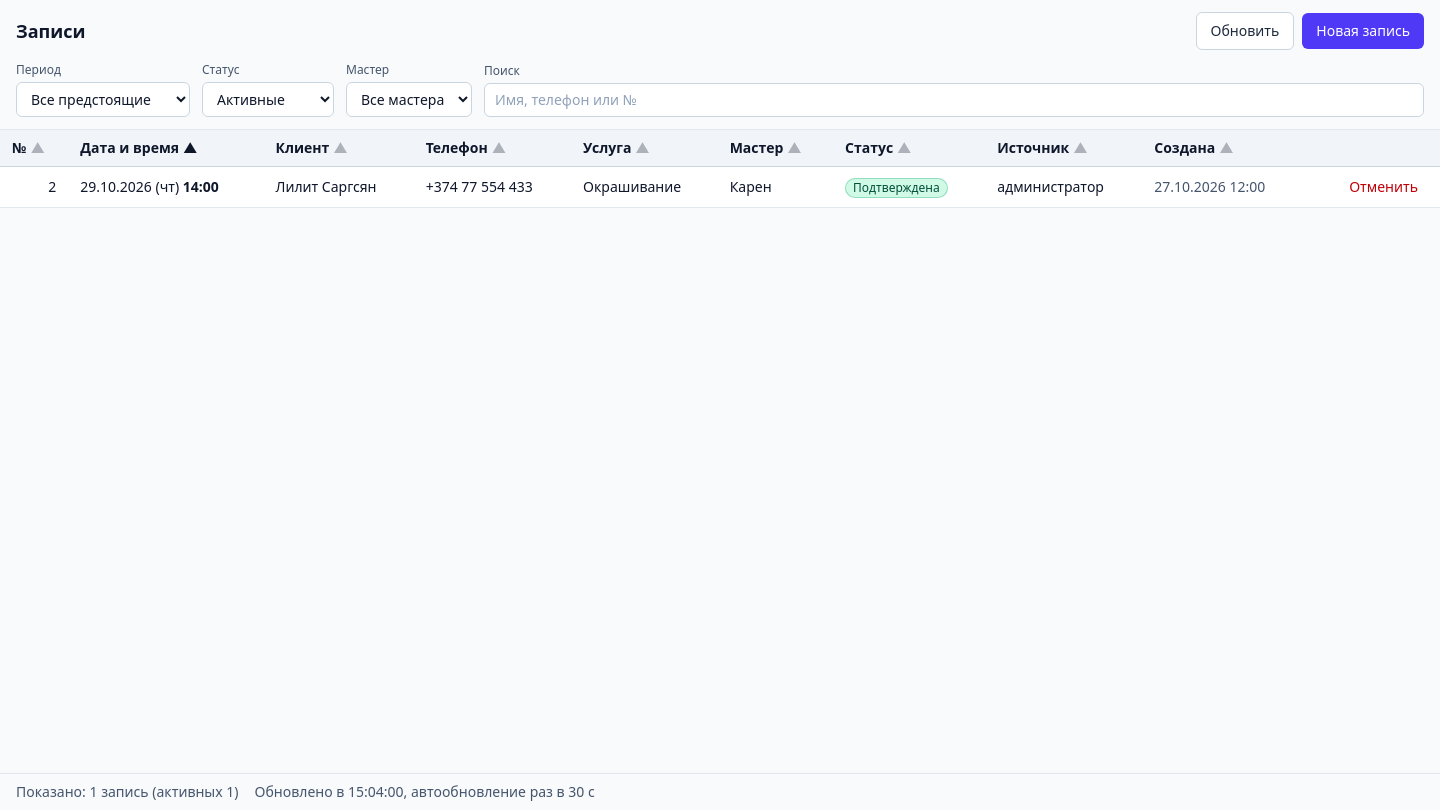
Test case: BookingsTab › отмена записи с подтверждением и тостом
Click the button with aria-label "Отменить запись №2" at (1384, 187), box [1339,173,1428,201]
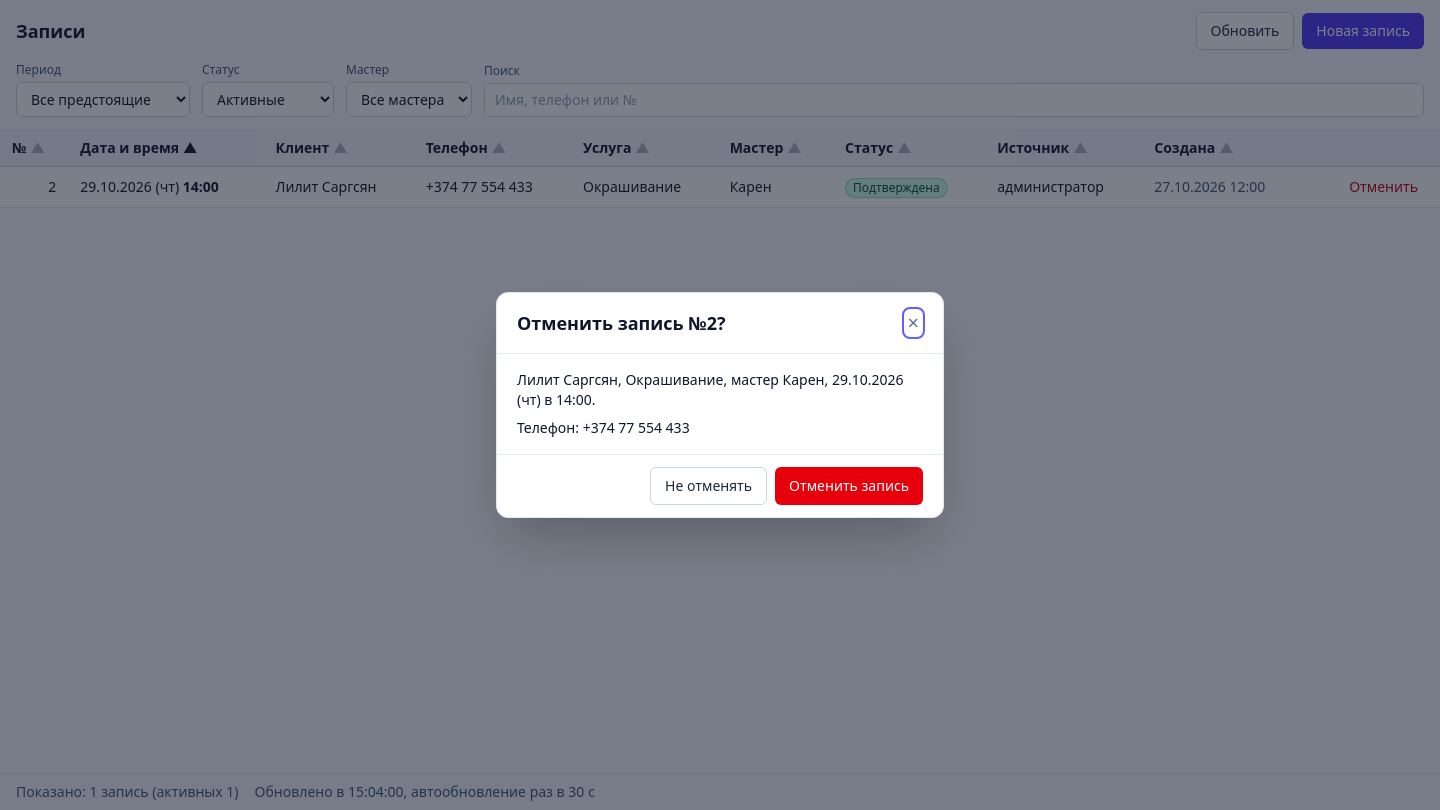
Result: the text "Лилит Саргсян" is shown at [517,370,904,409]
Click the button "Отменить запись" at (849, 486), box [775,467,923,505]
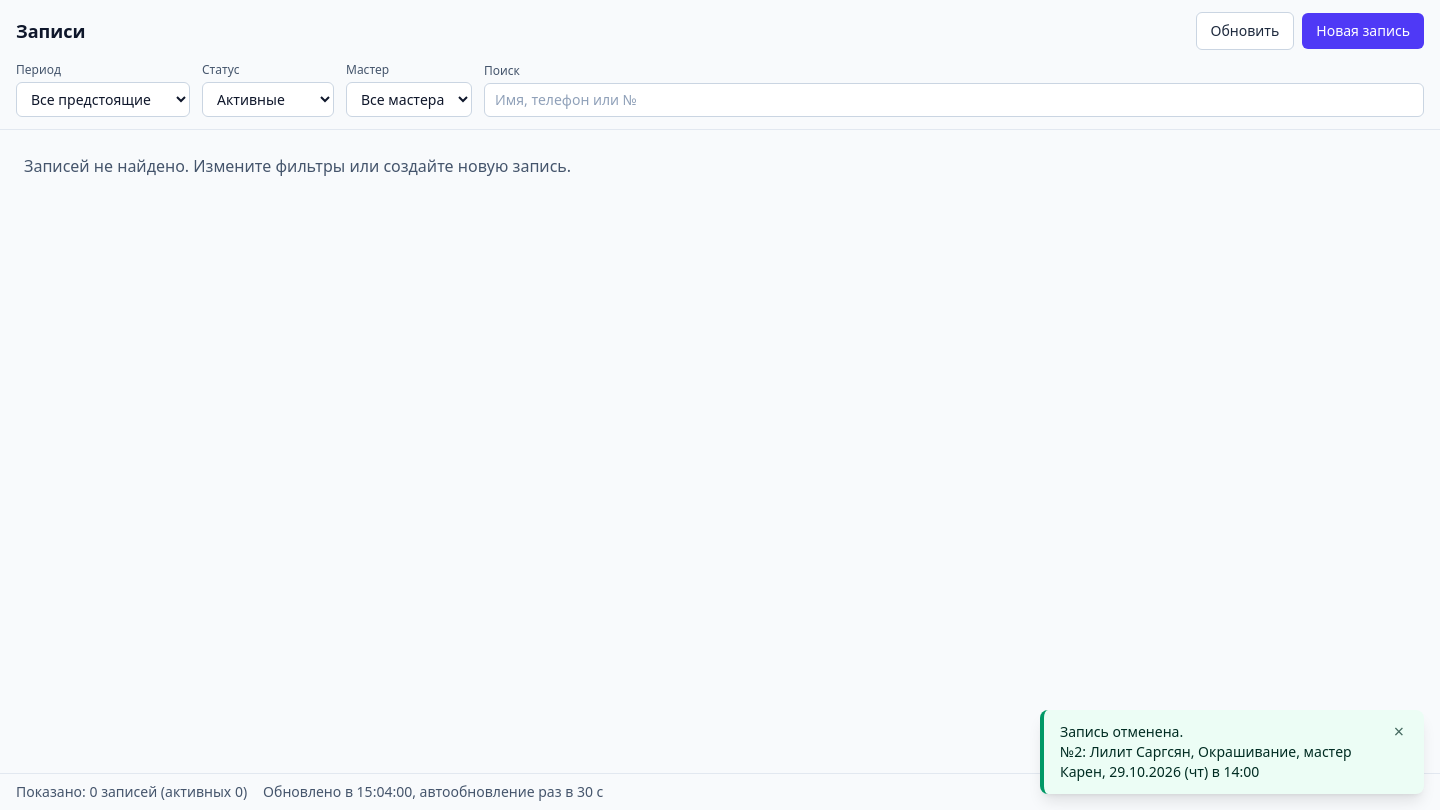
Result: the text "Запись отменена." is shown at [1060,722,1352,781]
Result: the table is gone
Result: the text "Записей не найдено" is shown at [24,155,571,177]
